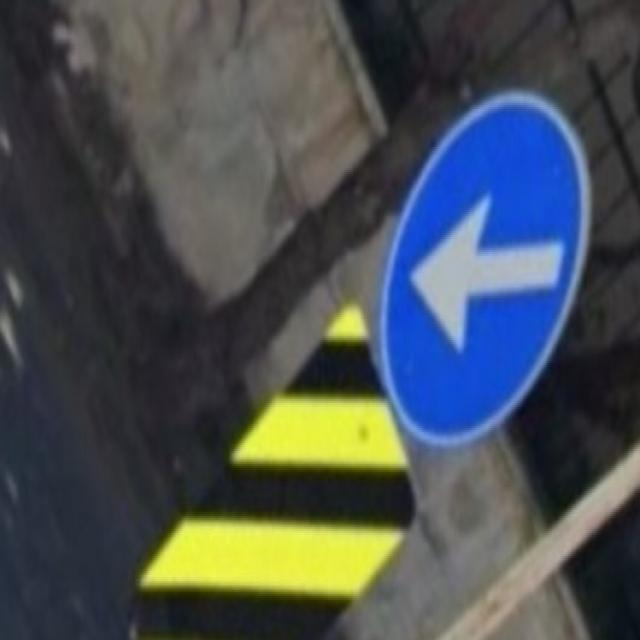Turn Left: (380, 97, 592, 441)
